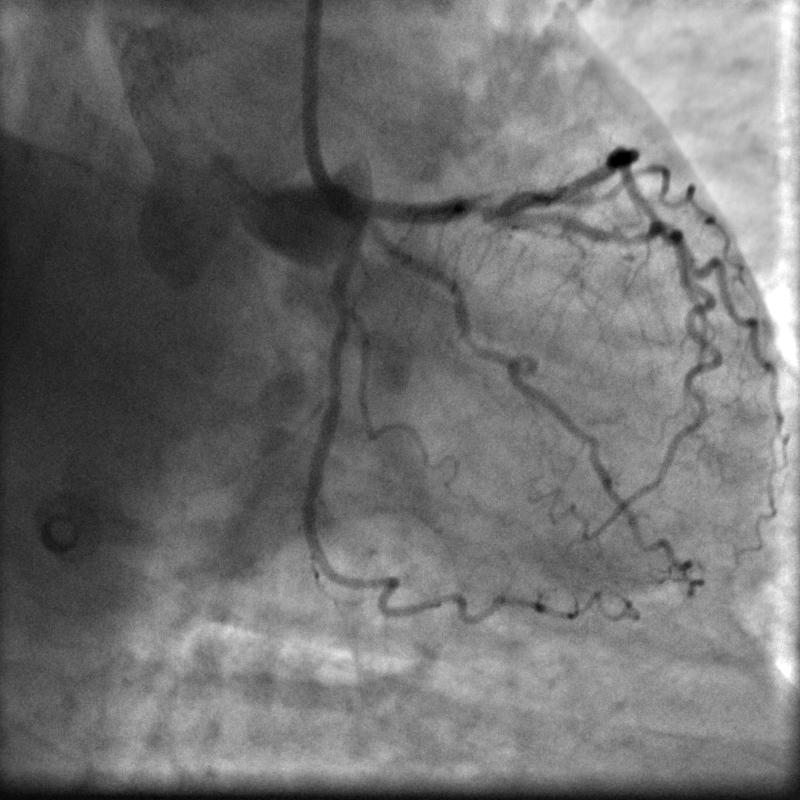Stenosis: (462, 193, 502, 224)
